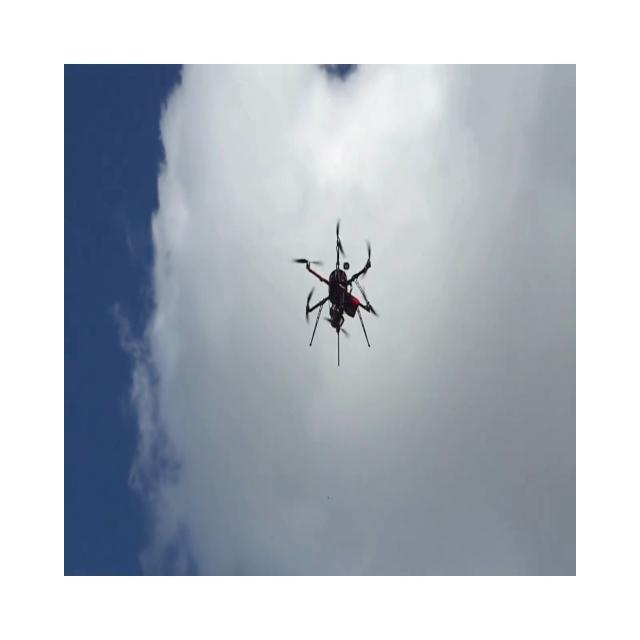drone: (292, 217, 379, 367)
